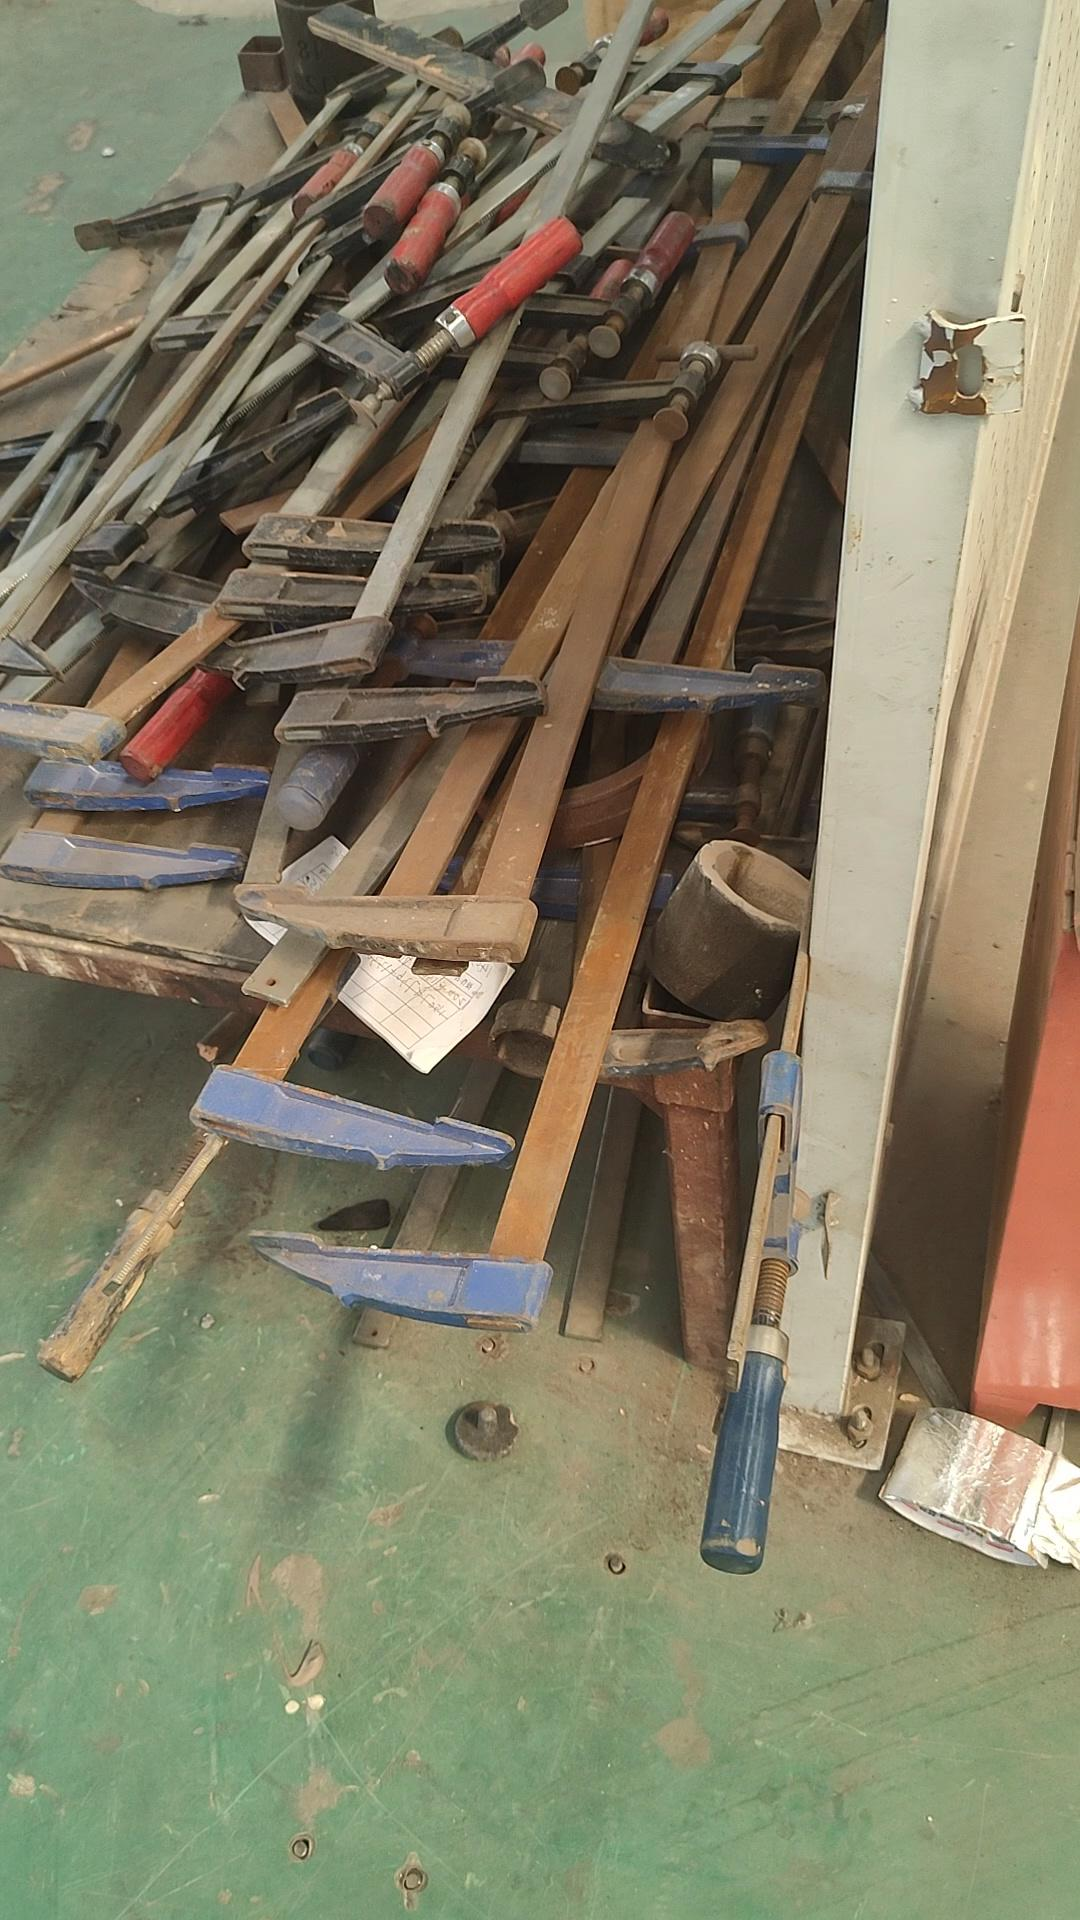pouring hole: (696, 836, 822, 934), (272, 1, 361, 11)
